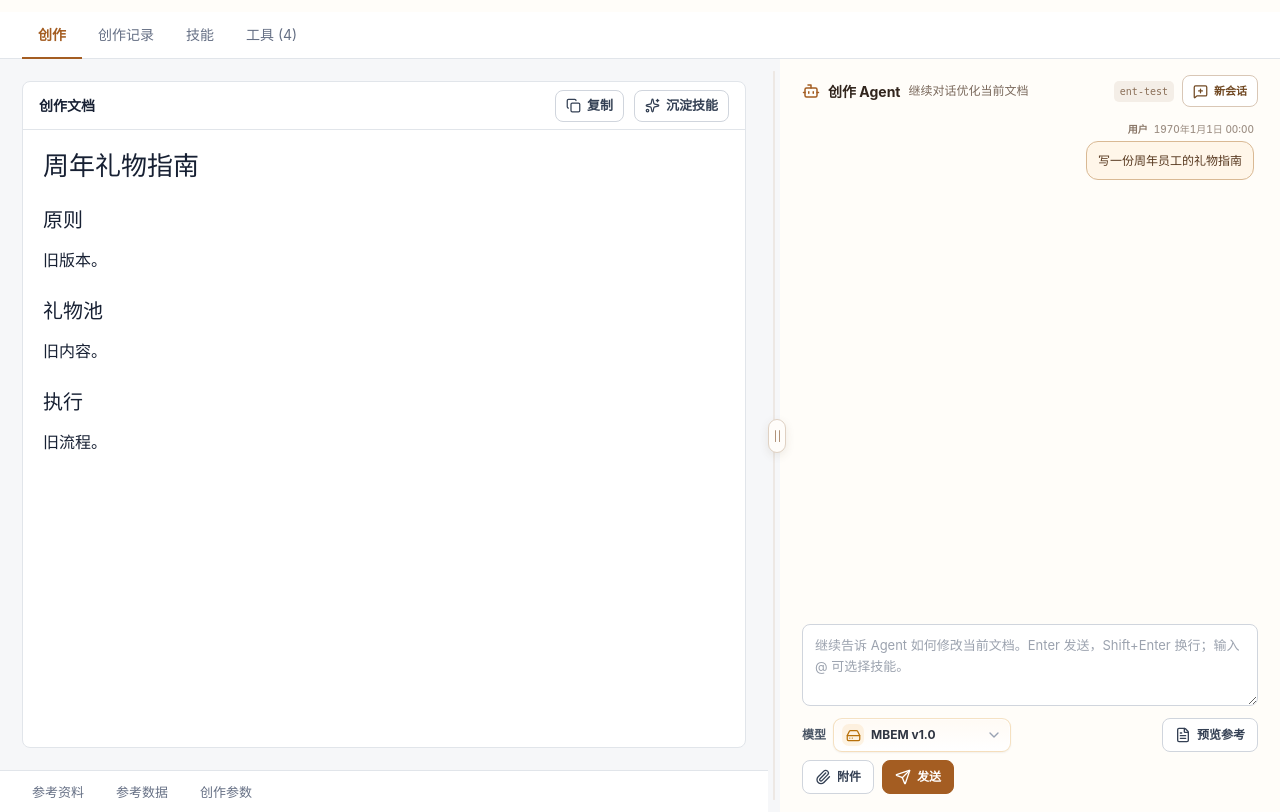
创作 Agent 多轮 Loop › 运行结束前不把中间 patch 标成已完成改动
Type "参考快手员工周年礼物方案" into the text box with placeholder "继续告诉 Agent 如何修改当前文档。Enter 发送，Shift+Enter 换行；输入 @ 可选择技能。".
click(1030, 665); type("参考快手员工周年礼物方案")  # box [802,624,1258,706]
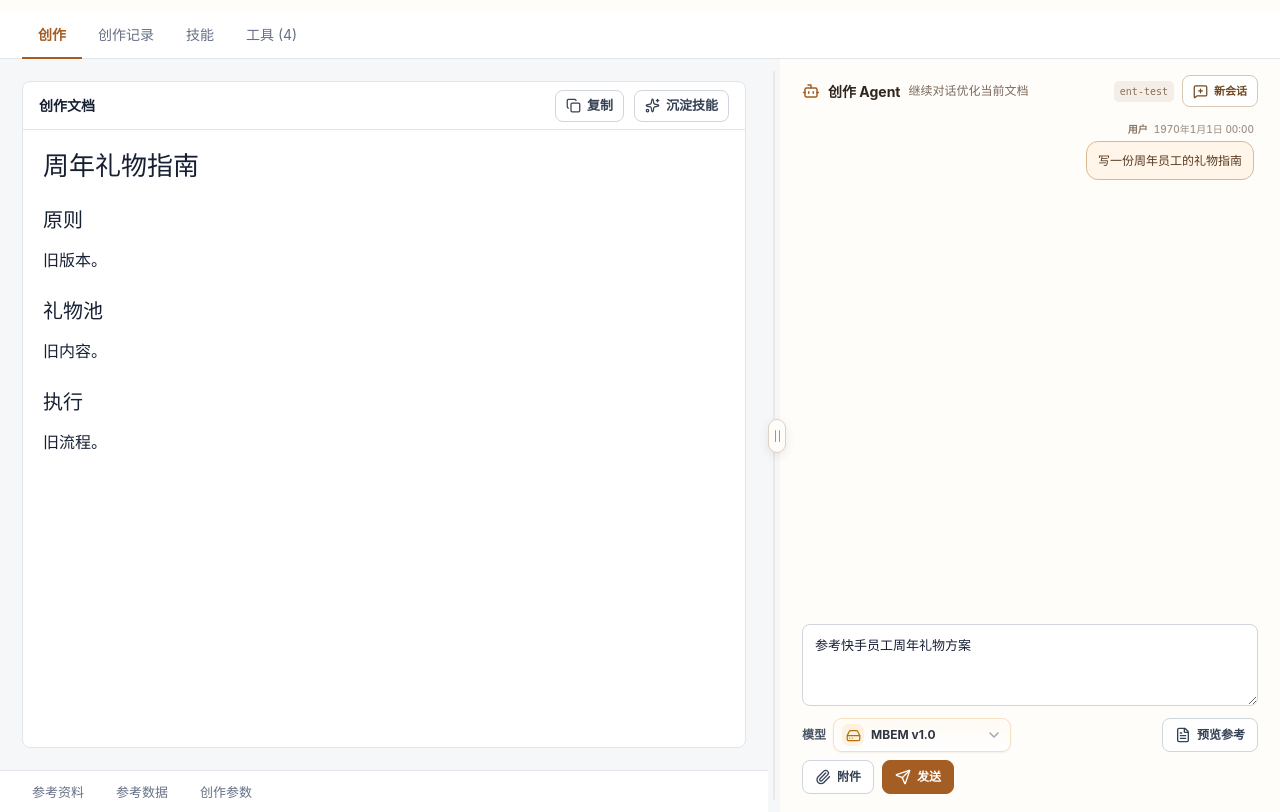
Click the button "发送".
click(918, 777)  # box [882,760,954,794]
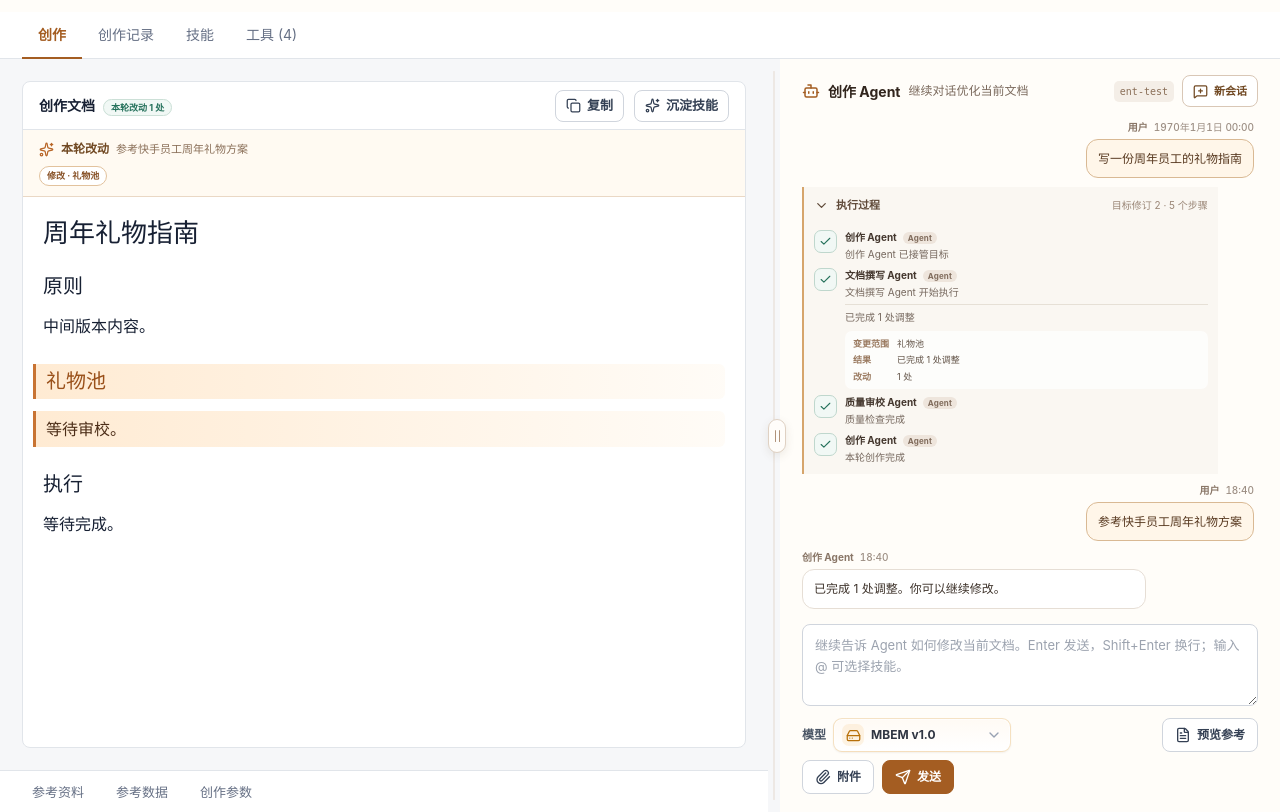
Expected: the element labelled "本轮改动" is shown, [23,130,745,196]
Expected: the element labelled "本轮改动" shows "参考快手员工周年礼物方案", [116,142,248,156]
